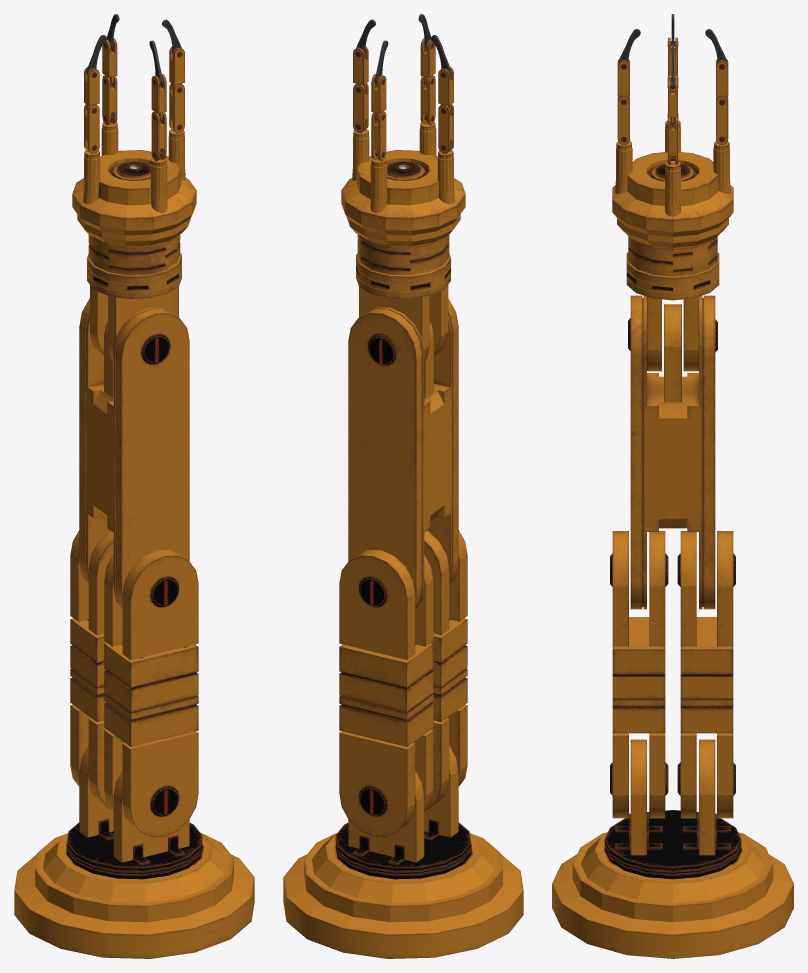
File: maya2sketchfab.fbx
3 renders of one model, left to right at view 1: azimuth 30°, elevation 25°; view 2: azimuth 150°, elevation 25°; view 3: azimuth 270°, elevation 25°, orthographic.
Visible parts, largest first — view 1: machine_Arm; view 2: machine_Arm; view 3: machine_Arm.
Boxes of the visible parts, <box> form: machine_Arm: <box>14,14,254,958</box>; machine_Arm: <box>283,14,523,958</box>; machine_Arm: <box>552,14,793,958</box>.
Size of the model in its own units: 37.14 by 149 by 37.14.
Materials: 1 (1 with a texture image).
